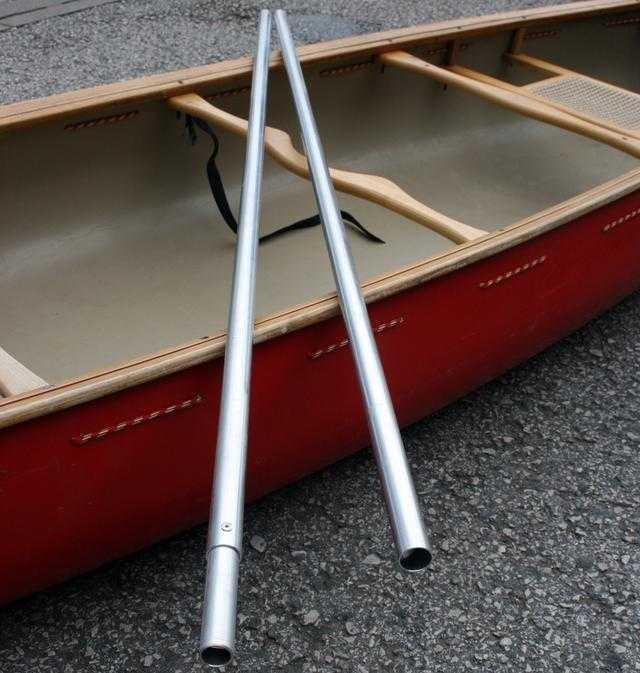kayak: (0, 10, 640, 637)
